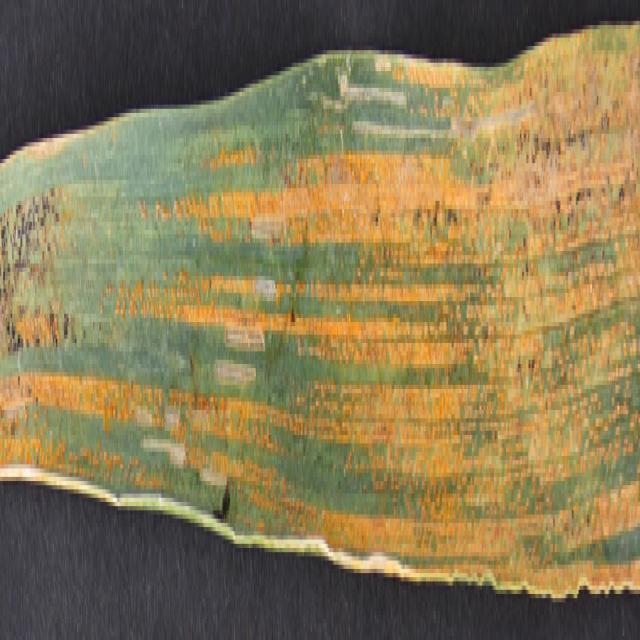leaf rust: (1, 50, 639, 586)
